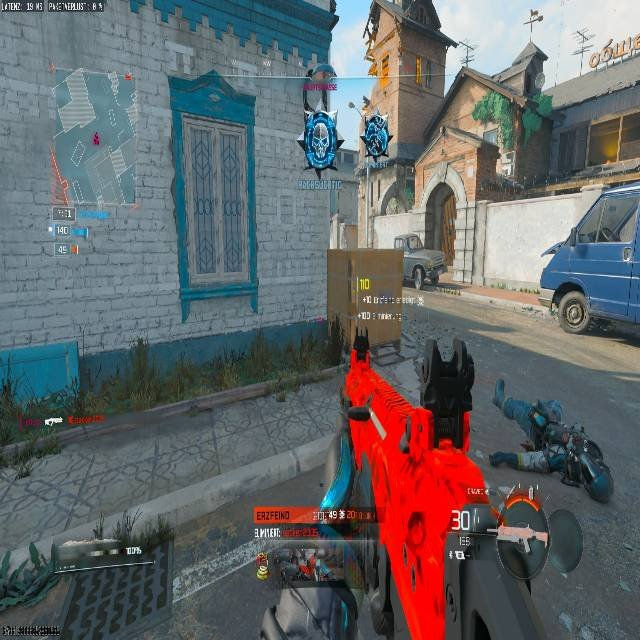head: (528, 401, 561, 439)
player: (488, 386, 612, 502), (363, 112, 390, 163)
